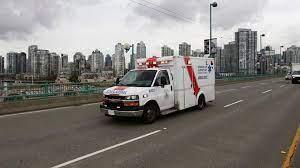ambulance_on: (101, 56, 215, 124)
